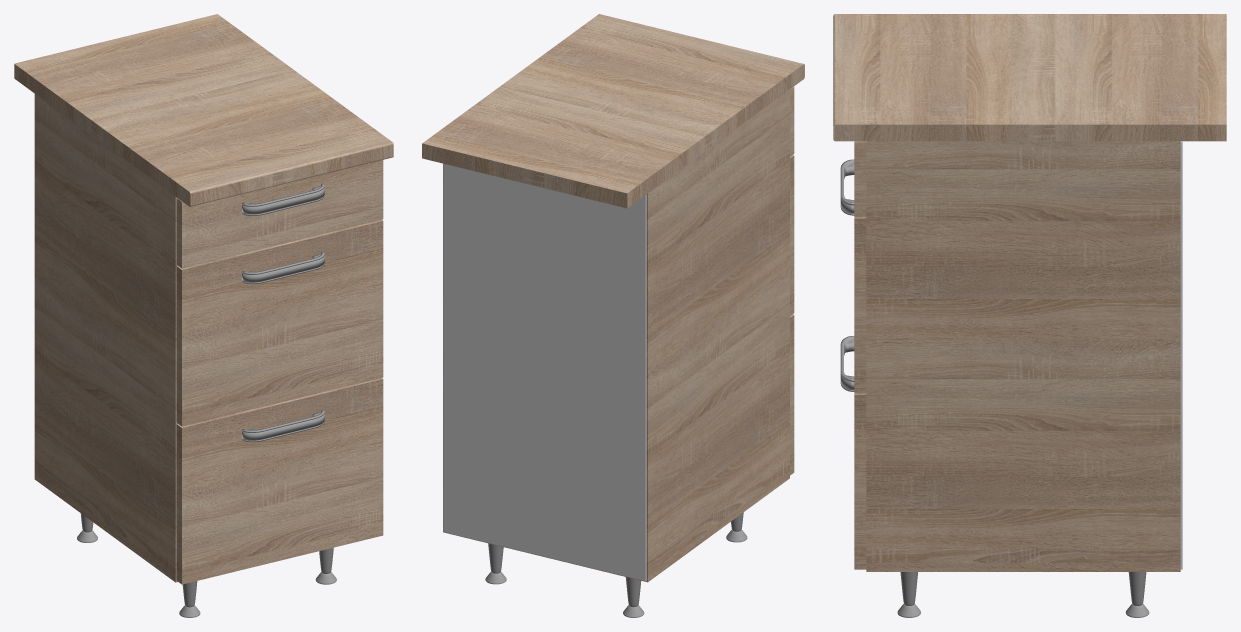
3 renders of one model, left to right at view 1: azimuth 30°, elevation 25°; view 2: azimuth 150°, elevation 25°; view 3: azimuth 270°, elevation 25°, orthographic. The views are drawn at different scales.
Visible parts, largest first — view 1: s_a3f_40_korpusz, s_a3f_40_munkalap, s_a3f_40_fiok_3, s_a3f_40_fiok_2, s_a3f_40_fiok_1, s_a3f_40_fogo_3, s_a3f_40_fogo_2, s_a3f_40_fogo_1, s_a3f_40_lab_je, s_a3f_40_lab_be; view 2: s_a3f_40_korpusz, s_a3f_40_munkalap, s_a3f_40_fiok_3, s_a3f_40_fiok_2, s_a3f_40_lab_jh, s_a3f_40_lab_bh; view 3: s_a3f_40_korpusz, s_a3f_40_munkalap, s_a3f_40_fiok_3, s_a3f_40_fiok_2, s_a3f_40_fiok_1, s_a3f_40_lab_jh, s_a3f_40_lab_je, s_a3f_40_fogo_2, s_a3f_40_fogo_3.
Boxes of the visible parts, x1=… form: s_a3f_40_korpusz: x1=34, y1=94, x2=177, y2=582; s_a3f_40_munkalap: x1=14, y1=14, x2=393, y2=206; s_a3f_40_fiok_3: x1=176, y1=378, x2=383, y2=584; s_a3f_40_fiok_2: x1=176, y1=219, x2=383, y2=426; s_a3f_40_fiok_1: x1=176, y1=160, x2=383, y2=268; s_a3f_40_fogo_3: x1=242, y1=409, x2=324, y2=442; s_a3f_40_fogo_2: x1=242, y1=251, x2=324, y2=284; s_a3f_40_fogo_1: x1=242, y1=183, x2=324, y2=215; s_a3f_40_lab_je: x1=315, y1=547, x2=336, y2=584; s_a3f_40_lab_be: x1=179, y1=581, x2=200, y2=617; s_a3f_40_korpusz: x1=443, y1=89, x2=789, y2=582; s_a3f_40_munkalap: x1=422, y1=14, x2=804, y2=208; s_a3f_40_fiok_3: x1=790, y1=314, x2=794, y2=475; s_a3f_40_fiok_2: x1=790, y1=155, x2=794, y2=315; s_a3f_40_lab_jh: x1=485, y1=543, x2=506, y2=584; s_a3f_40_lab_bh: x1=623, y1=577, x2=644, y2=617; s_a3f_40_korpusz: x1=866, y1=141, x2=1182, y2=571; s_a3f_40_munkalap: x1=833, y1=14, x2=1226, y2=141; s_a3f_40_fiok_3: x1=854, y1=393, x2=866, y2=569; s_a3f_40_fiok_2: x1=854, y1=217, x2=866, y2=393; s_a3f_40_fiok_1: x1=854, y1=141, x2=866, y2=216; s_a3f_40_lab_jh: x1=1125, y1=572, x2=1149, y2=617; s_a3f_40_lab_je: x1=897, y1=572, x2=920, y2=617; s_a3f_40_fogo_2: x1=840, y1=159, x2=854, y2=215; s_a3f_40_fogo_3: x1=840, y1=336, x2=854, y2=391.
Size of the model in its own units: 0.4 by 0.853 by 0.6.
7 materials, 4 textured.
